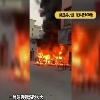fire: (35, 45, 70, 70)
